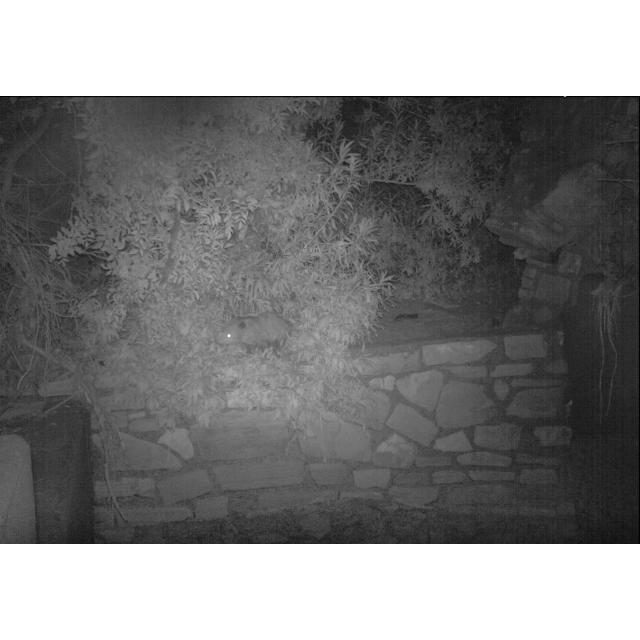animals: (218, 312, 298, 356)
